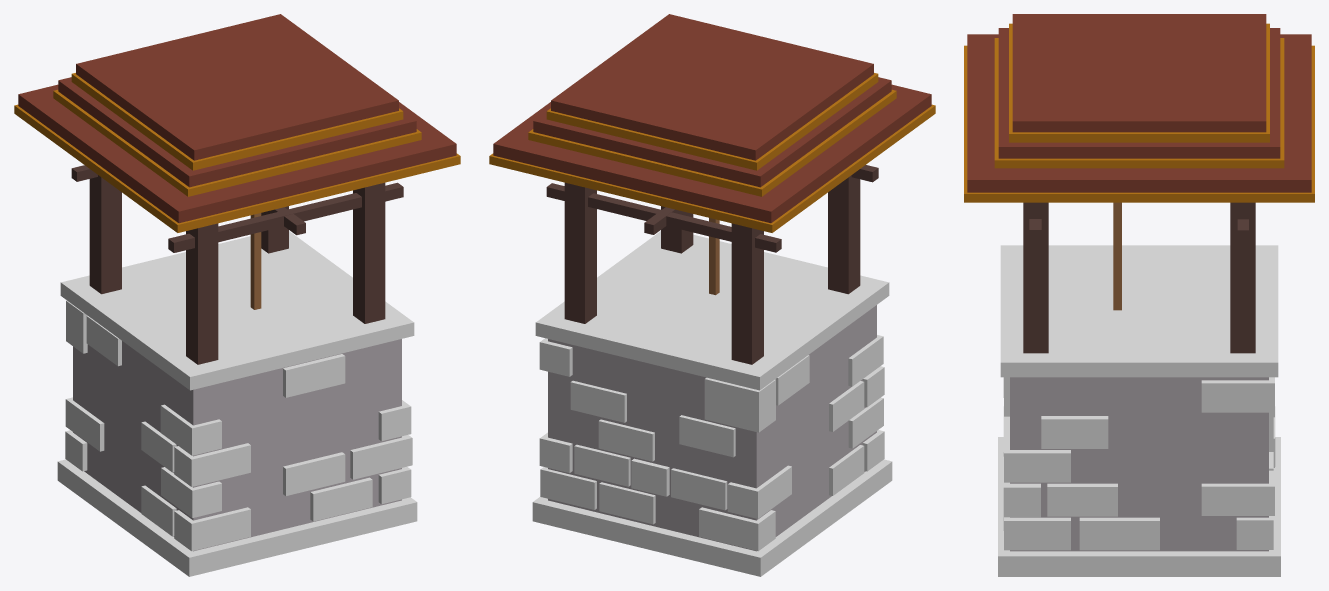
Rendered from Well.glb.
The picture shows the model from 3 angles, left to right: view 1: azimuth 30°, elevation 25°; view 2: azimuth 150°, elevation 25°; view 3: azimuth 270°, elevation 25°; orthographic projection. The views are drawn at different scales.
Parts seen in each view (by area): view 1: Cube.010, Cube, Cube.021, Cube.006, Cube.019, Cube.001, Cube.002, Cube.004, Cube.008, Cube.025, Cube.026, Cube.017 (+15 smaller); view 2: Cube.010, Cube.021, Cube, Cube.006, Cube.019, Cube.004, Cube.003, Cube.001, Cube.037, Cube.007, Cube.043, Cube.033 (+19 smaller); view 3: Cube.010, Cube.021, Cube, Cube.006, Cube.019, Cube.003, Cube.002, Cube.020, Cube.030, Cube.044, Cube.016, Cube.014 (+5 smaller).
Part boxes in pixels (x1=…): Cube.010: x1=18, y1=14, x2=456, y2=223; Cube: x1=73, y1=339, x2=401, y2=551; Cube.021: x1=60, y1=231, x2=414, y2=390; Cube.006: x1=14, y1=73, x2=460, y2=232; Cube.019: x1=57, y1=459, x2=417, y2=576; Cube.001: x1=186, y1=223, x2=218, y2=364; Cube.002: x1=353, y1=182, x2=385, y2=323; Cube.004: x1=89, y1=175, x2=121, y2=294; Cube.008: x1=168, y1=182, x2=403, y2=252; Cube.025: x1=174, y1=507, x2=250, y2=551; Cube.026: x1=174, y1=443, x2=250, y2=486; Cube.017: x1=350, y1=435, x2=412, y2=479; Cube.010: x1=493, y1=14, x2=931, y2=223; Cube.021: x1=535, y1=231, x2=889, y2=390; Cube: x1=548, y1=305, x2=876, y2=551; Cube.006: x1=489, y1=73, x2=935, y2=232; Cube.019: x1=532, y1=459, x2=892, y2=576; Cube.004: x1=731, y1=223, x2=763, y2=364; Cube.003: x1=564, y1=182, x2=596, y2=323; Cube.001: x1=828, y1=175, x2=860, y2=294; Cube.037: x1=704, y1=377, x2=775, y2=432; Cube.007: x1=546, y1=183, x2=781, y2=252; Cube.043: x1=699, y1=507, x2=775, y2=551; Cube.033: x1=727, y1=465, x2=791, y2=518; Cube.010: x1=967, y1=14, x2=1311, y2=192; Cube.021: x1=1000, y1=245, x2=1278, y2=377; Cube: x1=1010, y1=377, x2=1268, y2=551; Cube.006: x1=964, y1=23, x2=1314, y2=202; Cube.019: x1=998, y1=437, x2=1280, y2=576; Cube.003: x1=1230, y1=202, x2=1255, y2=353; Cube.002: x1=1023, y1=202, x2=1048, y2=353; Cube.020: x1=1079, y1=517, x2=1159, y2=550; Cube.030: x1=1201, y1=470, x2=1274, y2=515; Cube.044: x1=1201, y1=377, x2=1274, y2=412; Cube.016: x1=1047, y1=483, x2=1117, y2=516; Cube.014: x1=1004, y1=437, x2=1070, y2=482.
Size of the model in its own units: 2.71 by 3.83 by 2.71.
